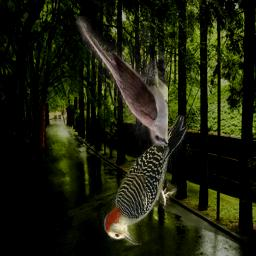Cuckoo: (76, 16, 168, 146)
Woodpecker: (102, 115, 188, 245)
